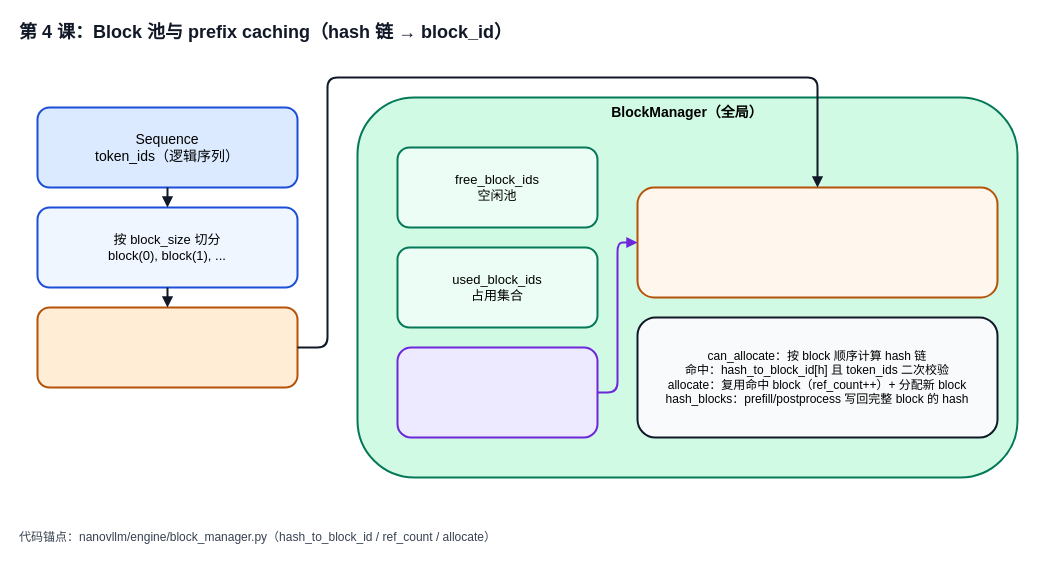
This 1054x564 diagram has some shape labels left out. Each missing label, with the box of its shape:
block_table（物理映射） [block_id0, block_id1, ...]: (36, 306, 298, 388)
blocks[block_id] 元数据 ref_count / hash / token_ids: (636, 186, 998, 298)
hash_to_block_id prefix_hash → block_id: (396, 346, 598, 438)
